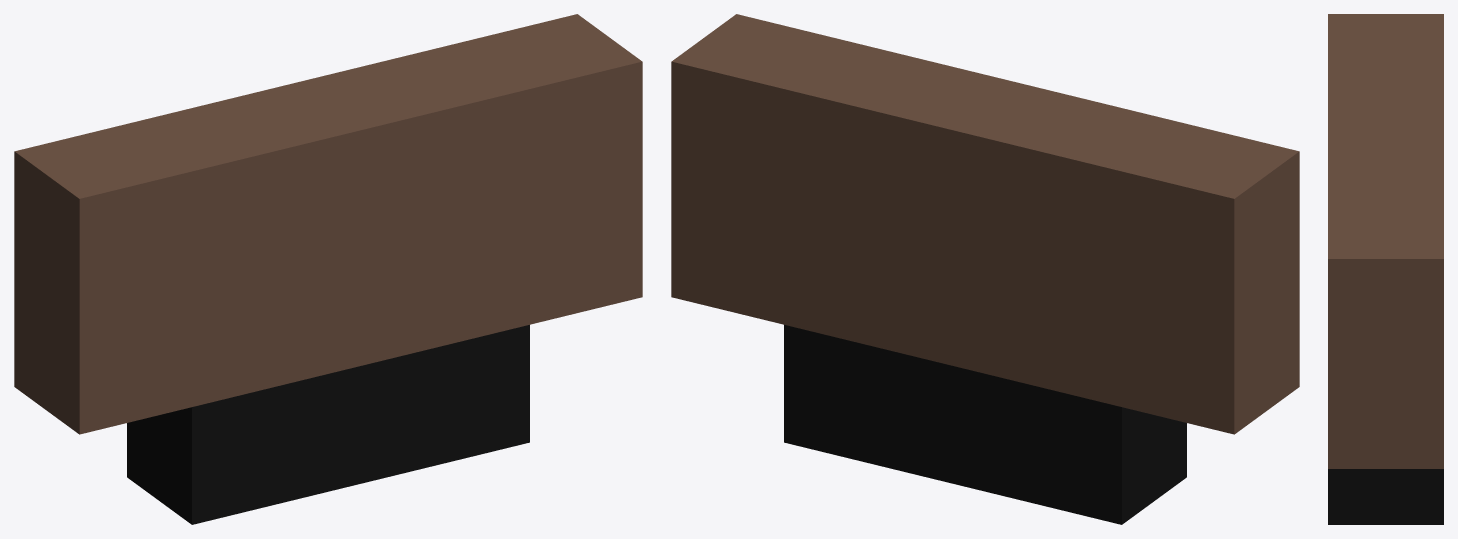
Rendered from rngesus_eyeR.fbx.
3 renders of one model, left to right at view 1: azimuth 30°, elevation 25°; view 2: azimuth 150°, elevation 25°; view 3: azimuth 270°, elevation 25°, orthographic. The views are drawn at different scales.
Visible parts, largest first — view 1: rngesus_eyeR; view 2: rngesus_eyeR; view 3: rngesus_eyeR.
Boxes of the visible parts, x1=… form: rngesus_eyeR: x1=14, y1=14, x2=642, y2=524; rngesus_eyeR: x1=671, y1=14, x2=1299, y2=524; rngesus_eyeR: x1=1328, y1=14, x2=1443, y2=524.
Size of the model in its own units: 5 by 3 by 1.
1 material, 1 textured.
